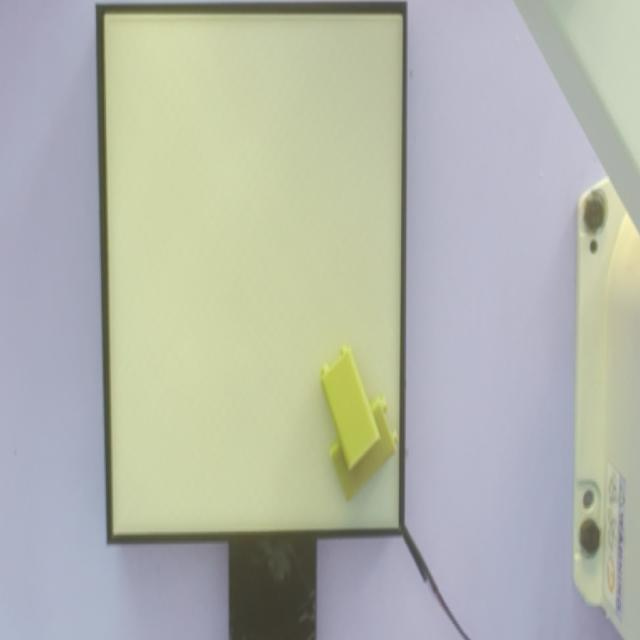bateria: (321, 346, 380, 472)
mesa: (96, 0, 407, 544)
